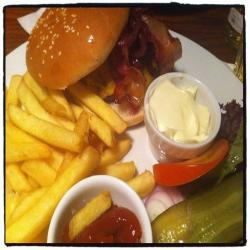burger: (27, 6, 186, 132)
fries: (7, 78, 158, 212)
ketchup: (65, 196, 145, 250)
